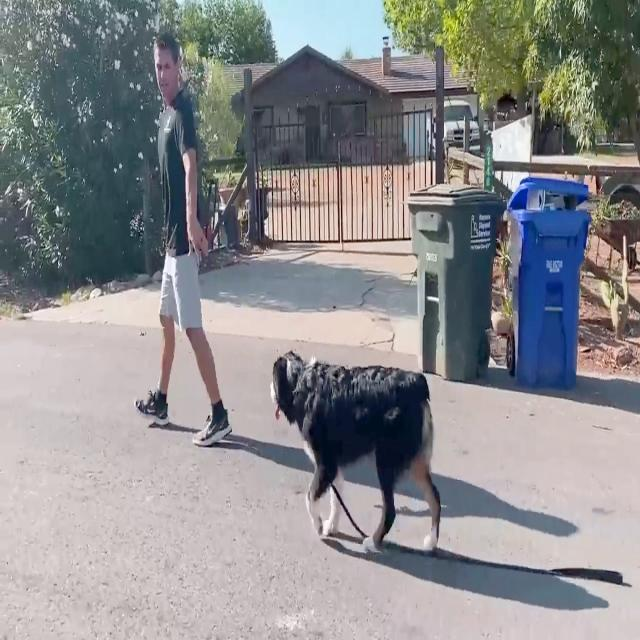Unleashed_Dog: (170, 254, 442, 556)
